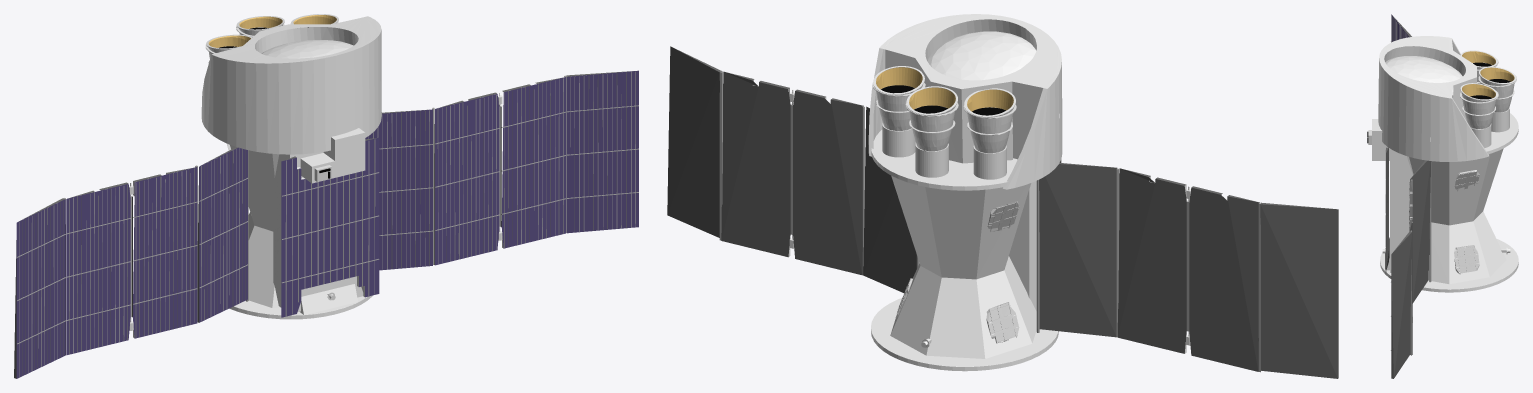
The model's file is swas.glb.
The picture shows the model from 3 angles, left to right: view 1: azimuth 30°, elevation 25°; view 2: azimuth 150°, elevation 25°; view 3: azimuth 270°, elevation 25°; orthographic projection. The views are drawn at different scales.
Visible parts, largest first — view 1: <LWODefault>; view 2: <LWODefault>; view 3: <LWODefault>.
Part boxes in pixels (x1=…): <LWODefault>: x1=14, y1=14, x2=638, y2=378; <LWODefault>: x1=667, y1=14, x2=1338, y2=378; <LWODefault>: x1=1367, y1=14, x2=1518, y2=378.
Size of the model in its own units: 1 by 0.3966 by 0.2653.
